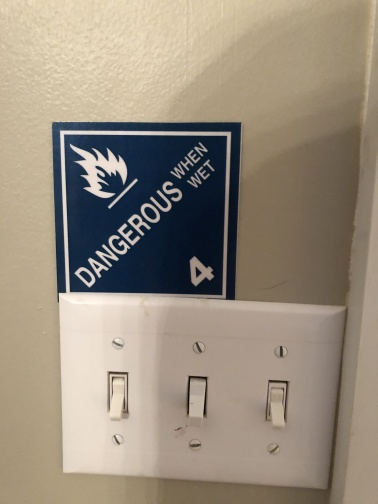DangerousWhenWet: (52, 123, 236, 300)
